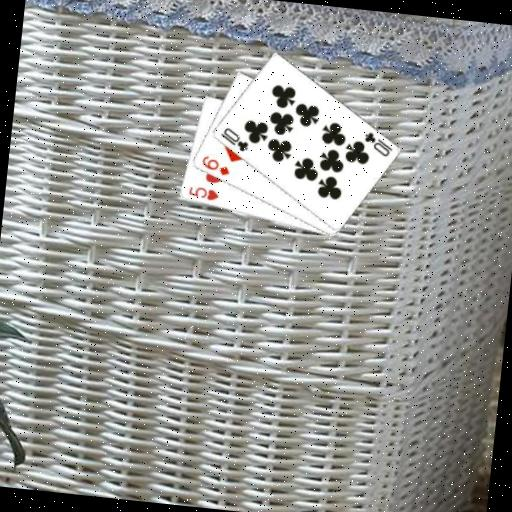10C: (216, 124, 252, 154), (360, 129, 396, 159)
5H: (185, 183, 221, 203)
6D: (198, 152, 233, 177)
